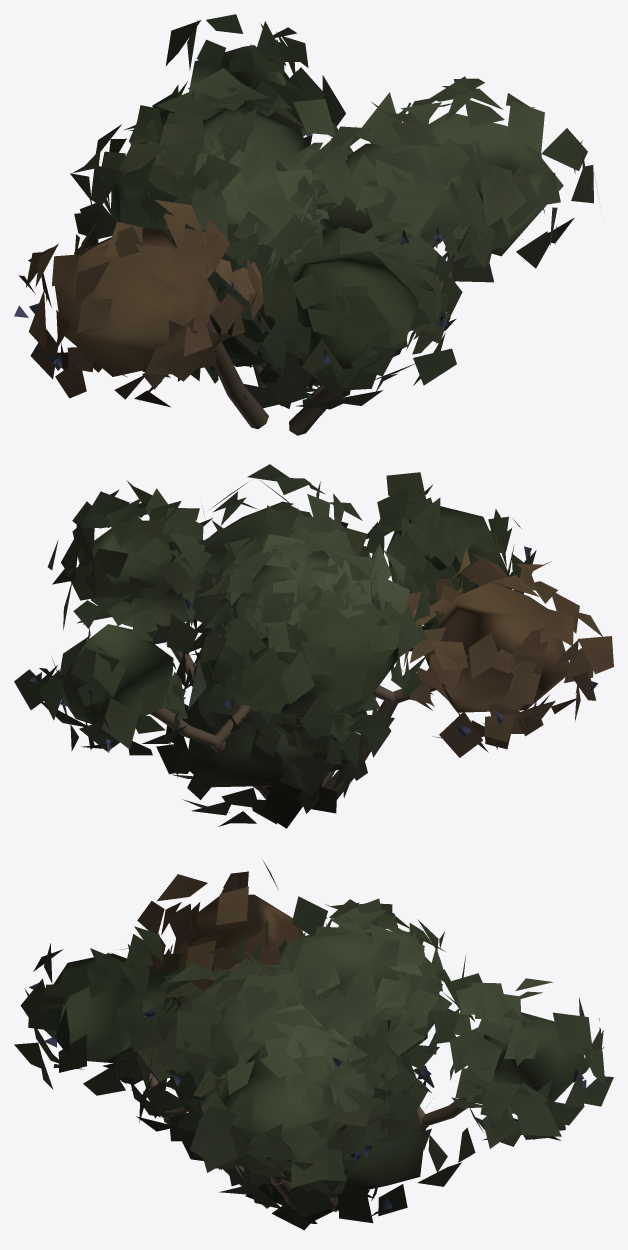
The model's file is calafate_a.glb.
The picture shows the model from 3 angles, top to bottom: view 1: azimuth 30°, elevation 25°; view 2: azimuth 150°, elevation 25°; view 3: azimuth 270°, elevation 25°; orthographic projection. The views are drawn at different scales.
Parts seen in each view (by area): view 1: CalafateAHojas, CalafateACopa, CalafateATronco; view 2: CalafateAHojas, CalafateACopa, CalafateATronco; view 3: CalafateAHojas, CalafateACopa, CalafateATronco.
Part boxes in pixels (box(x1,y1,x2,y2)): CalafateAHojas: box(18, 14, 599, 409); CalafateACopa: box(14, 45, 563, 399); CalafateATronco: box(205, 254, 455, 435); CalafateAHojas: box(14, 464, 613, 828); CalafateACopa: box(29, 501, 597, 787); CalafateATronco: box(150, 640, 436, 799); CalafateAHojas: box(14, 860, 613, 1230); CalafateACopa: box(29, 894, 586, 1210); CalafateATronco: box(143, 1073, 474, 1211).
Bounding box in the file's own units: 2.13 × 1.13 × 2.12.
